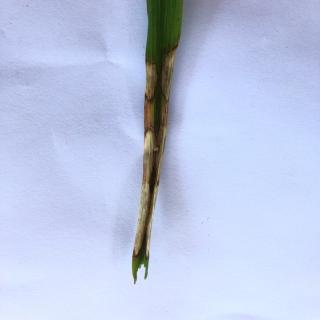Hawar-Daun: (130, 58, 158, 256), (152, 48, 176, 221)
